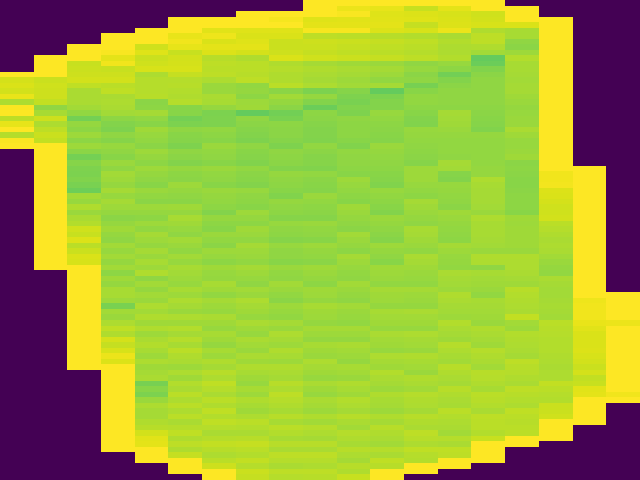cylinder: (4, 1, 638, 477)
